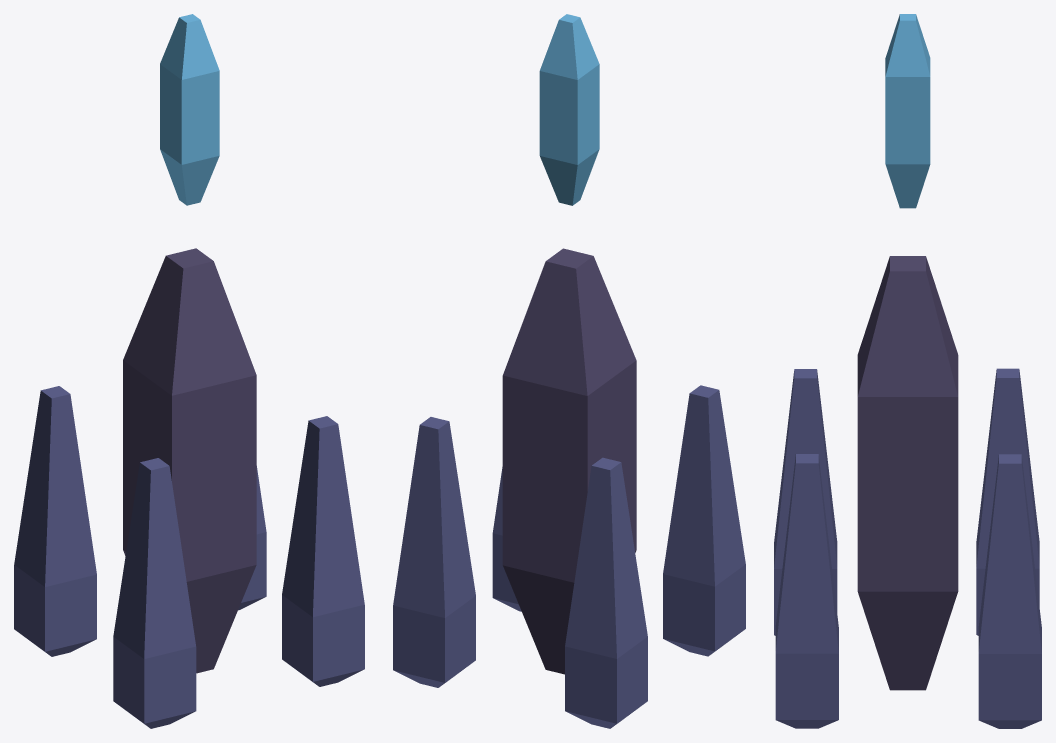
The model's file is monolith.glb.
The picture shows the model from 3 angles, left to right: view 1: azimuth 30°, elevation 25°; view 2: azimuth 150°, elevation 25°; view 3: azimuth 270°, elevation 25°; orthographic projection. The views are drawn at different scales.
Visible parts, largest first — view 1: Cube, Cube.005, Cube.004, Cube.002, Cube.001, Cube.003; view 2: Cube, Cube.003, Cube.005, Cube.002, Cube.001, Cube.004; view 3: Cube, Cube.004, Cube.003, Cube.001, Cube.002, Cube.005.
Part boxes in pixels (box(x1,y1,x2,y2)): Cube: box(123, 248, 256, 673); Cube.005: box(113, 458, 196, 728); Cube.004: box(282, 416, 364, 686); Cube.002: box(14, 386, 96, 656); Cube.001: box(160, 14, 219, 205); Cube.003: box(238, 466, 266, 610); Cube: box(502, 248, 636, 674); Cube.003: box(393, 417, 475, 687); Cube.005: box(663, 385, 745, 656); Cube.002: box(565, 457, 647, 728); Cube.001: box(539, 14, 599, 205); Cube.004: box(492, 467, 521, 611); Cube: box(857, 256, 958, 690); Cube.004: box(775, 454, 838, 728); Cube.003: box(978, 454, 1041, 728); Cube.001: box(885, 14, 930, 208); Cube.002: box(976, 368, 1039, 635); Cube.005: box(774, 369, 837, 635).
Size of the model in its own units: 5.26 by 14.62 by 5.34.
Materials: 6 (6 with a texture image).
